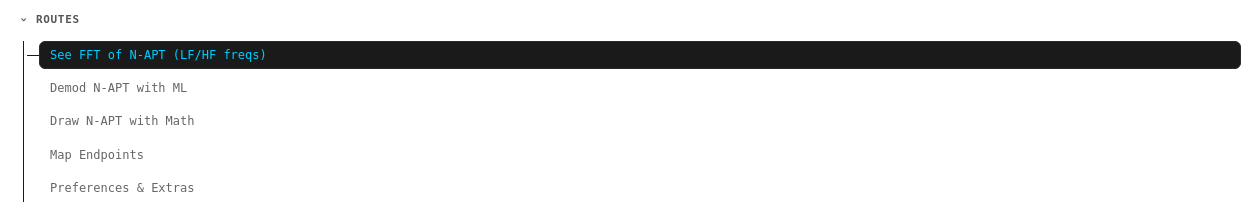
SidebarRoutesNav › toggles expansion and persists to localStorage
The image size is (1259, 219).
Click the button "› Routes" at (58, 20), box [17,8,1241,31]
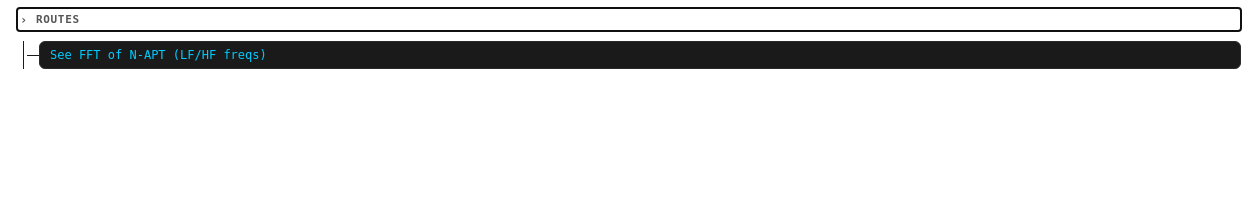
expect the button "See FFT of N-APT (LF/HF freqs)" is shown: met, box [39,41,1241,69]
expect the button "Demod N-APT with ML" is gone: met
